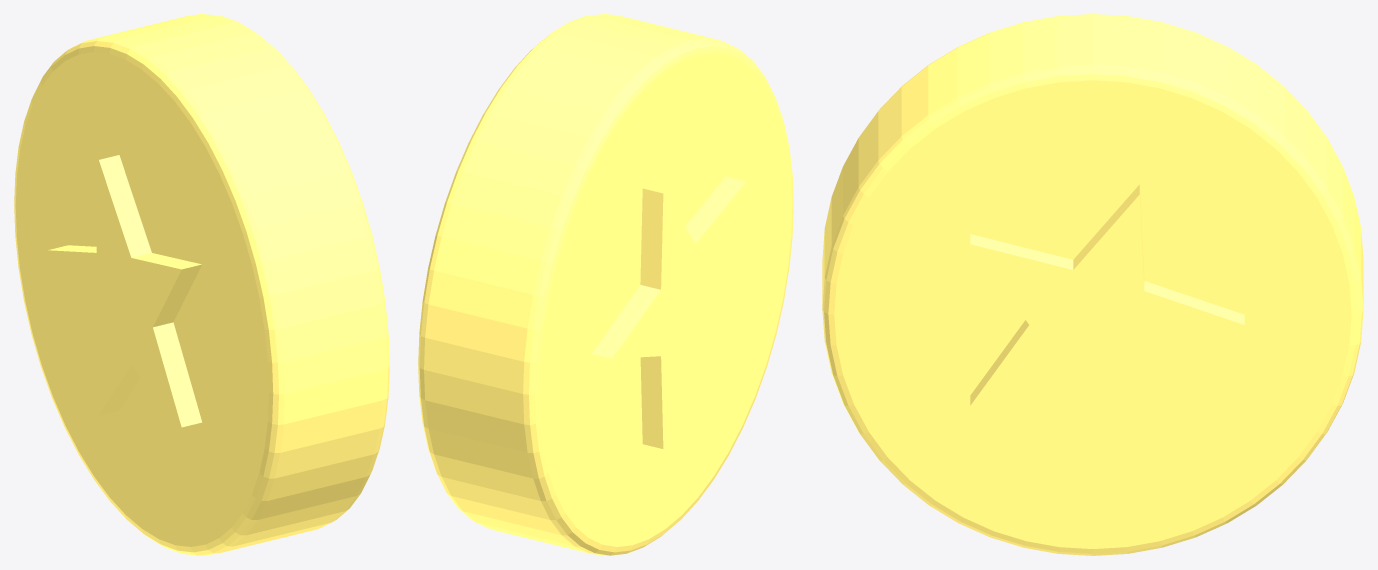
The model's file is Coin_Gold.fbx.
3 views of the same model, side by side, from view 1: azimuth 30°, elevation 25°; view 2: azimuth 150°, elevation 25°; view 3: azimuth 270°, elevation 25° (orthographic). The views are drawn at different scales.
Parts seen in each view (by area): view 1: Coin_Gold; view 2: Coin_Gold; view 3: Coin_Gold.
Part boxes in pixels (<box>): Coin_Gold: <box>14,14,389,555</box>; Coin_Gold: <box>418,14,793,555</box>; Coin_Gold: <box>822,14,1363,555</box>.
Size of the model in its own units: 0.35 by 1 by 1.
